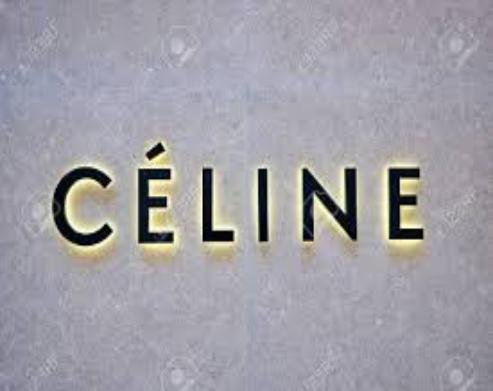CELINE: (48, 136, 435, 254)
